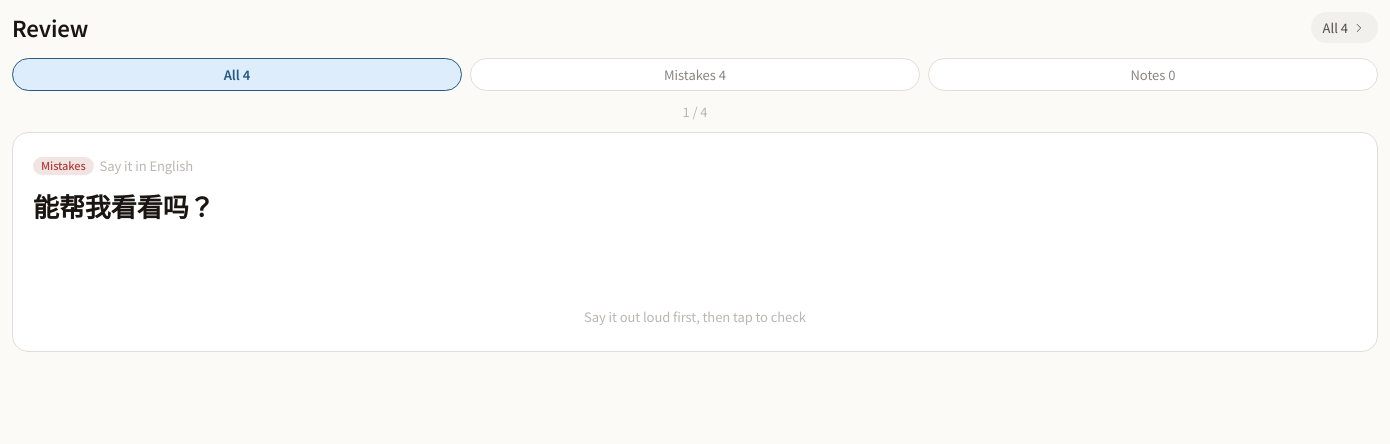
it: ReviewPage quiz (温故而知新词卡出题) › reveals a 4-choice quiz when enough items exist
Click the text "能帮我看看吗？": click(124, 205) [33,187,214,224]
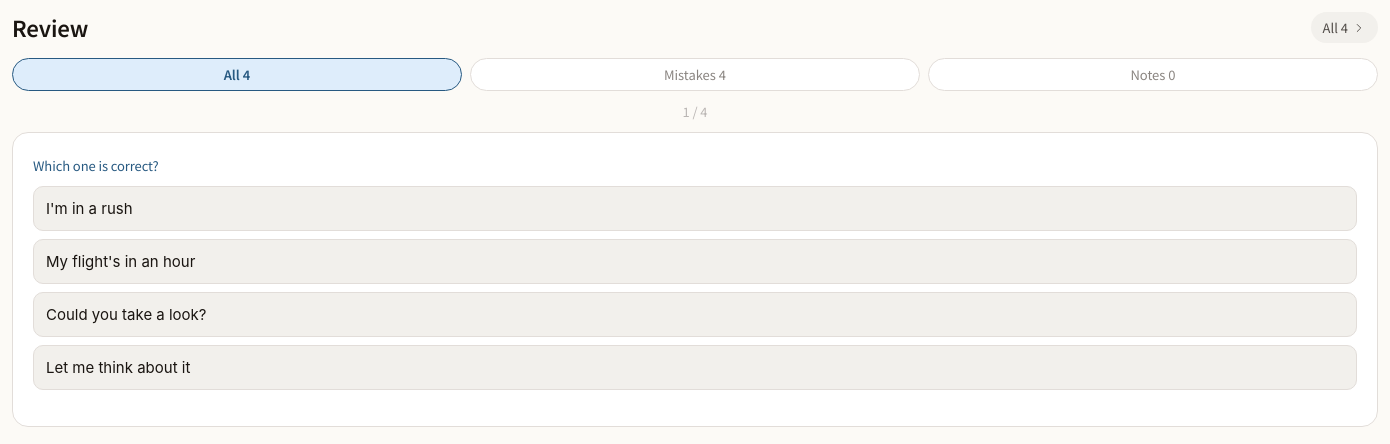
Expected: the text "Which one is correct?" is shown, [33,156,159,175]
Expected: the button "Could you take a look?" is shown, [33,292,1357,337]
Expected: the button "I'm in a rush" is shown, [33,186,1357,231]
